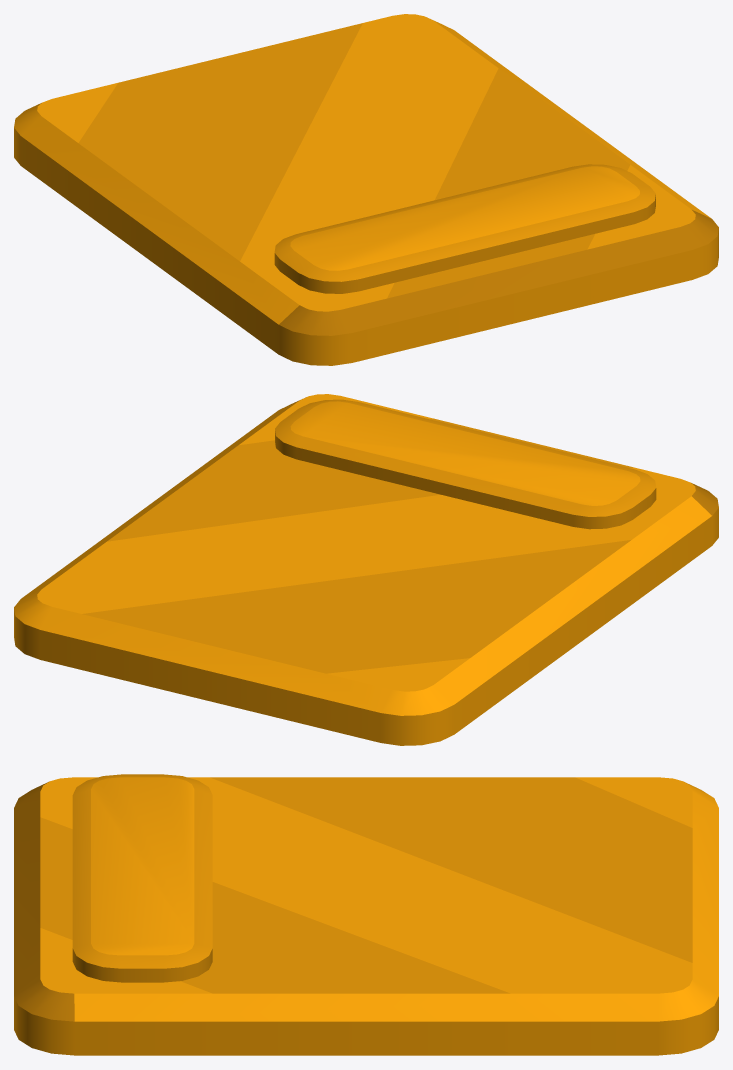
The model's file is Merge-6LvL.fbx.
The picture shows the model from 3 angles, top to bottom: view 1: azimuth 30°, elevation 25°; view 2: azimuth 150°, elevation 25°; view 3: azimuth 270°, elevation 25°; orthographic projection. The views are drawn at different scales.
Visible parts, largest first — view 1: Plane.013; view 2: Plane.013; view 3: Plane.013.
Part boxes in pixels (<box>): Plane.013: <box>14,14,718,365</box>; Plane.013: <box>14,394,718,745</box>; Plane.013: <box>14,774,718,1055</box>.
Size of the model in its own units: 763 by 103 by 950.
